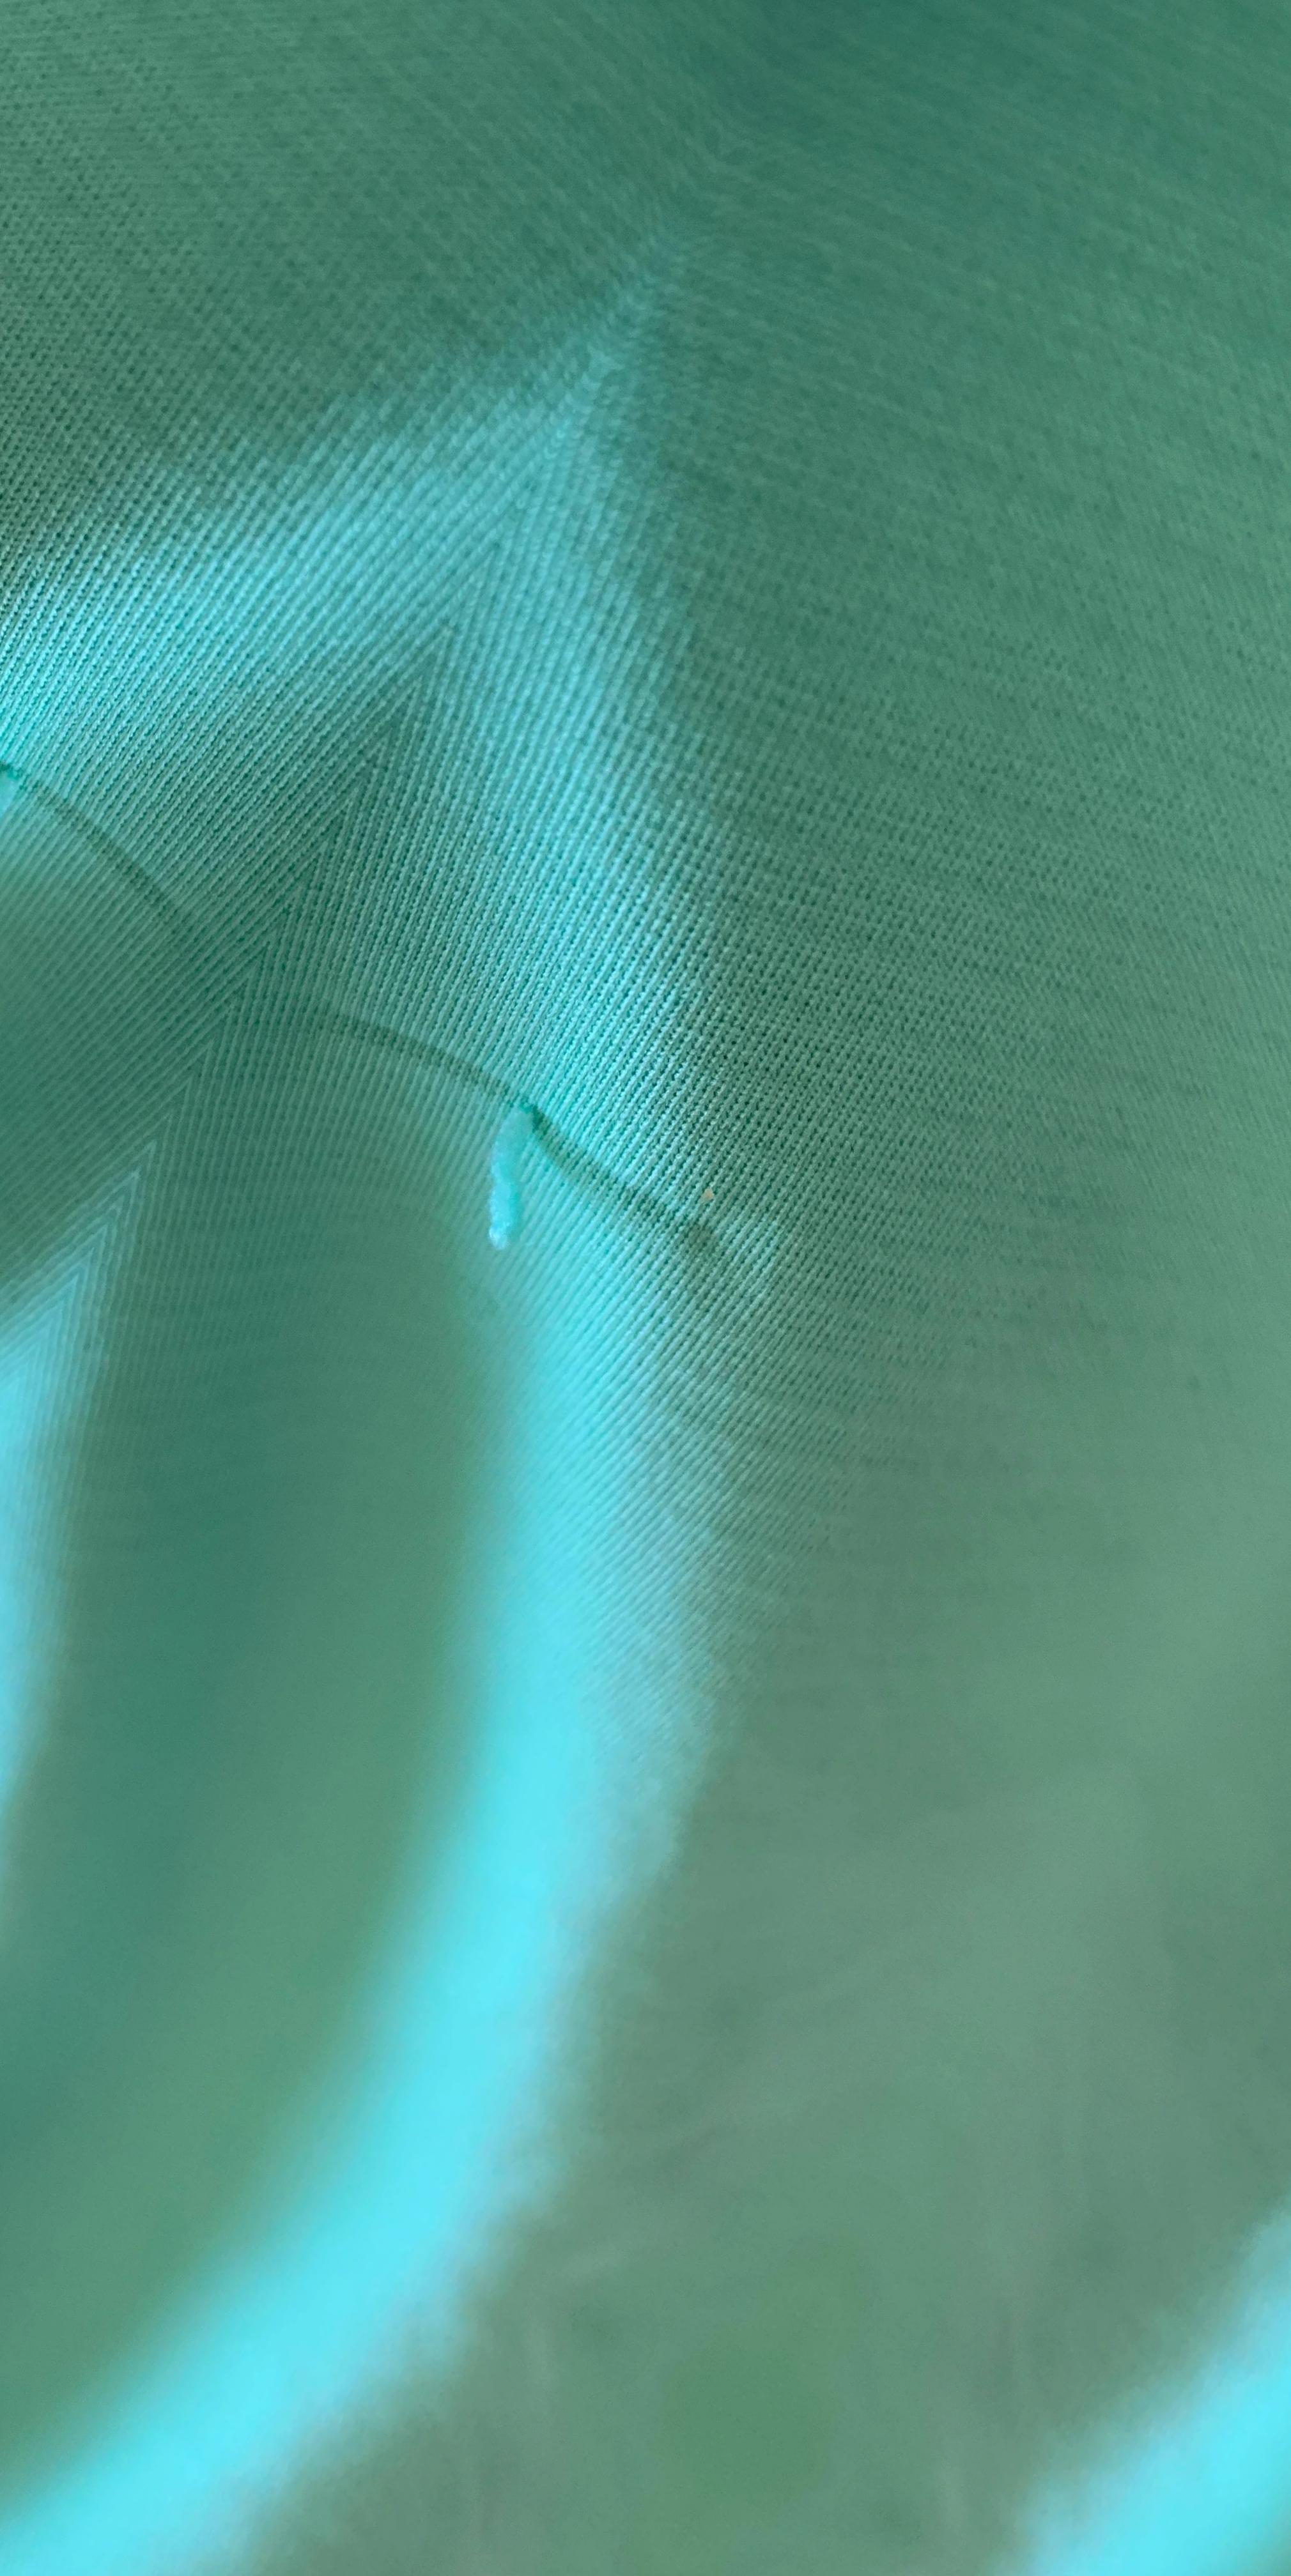snag: (361, 1035, 636, 1305)
